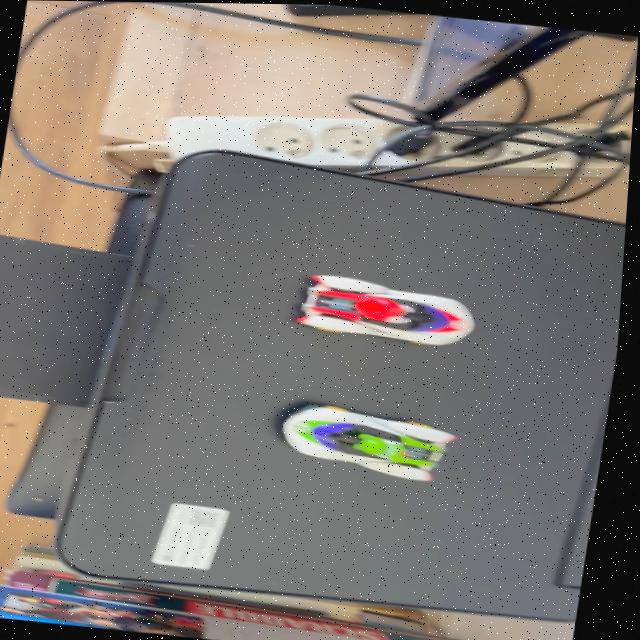mario: (282, 264, 491, 353)
yoshi: (269, 392, 480, 488)
